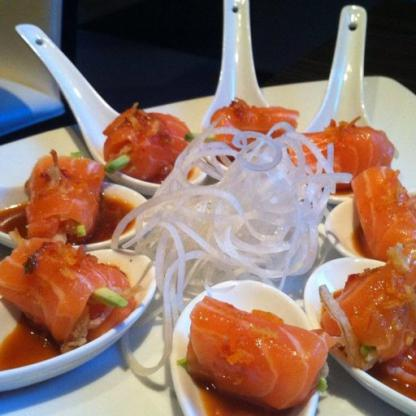salmon: (182, 297, 322, 403), (4, 234, 130, 336), (320, 254, 415, 368), (99, 107, 197, 180), (31, 151, 98, 229), (356, 166, 415, 254), (210, 97, 296, 152)
